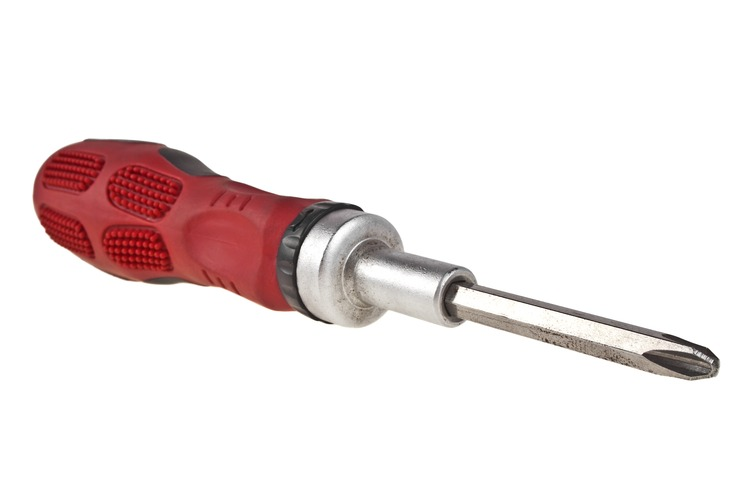screwdriver: (21, 133, 722, 389)
